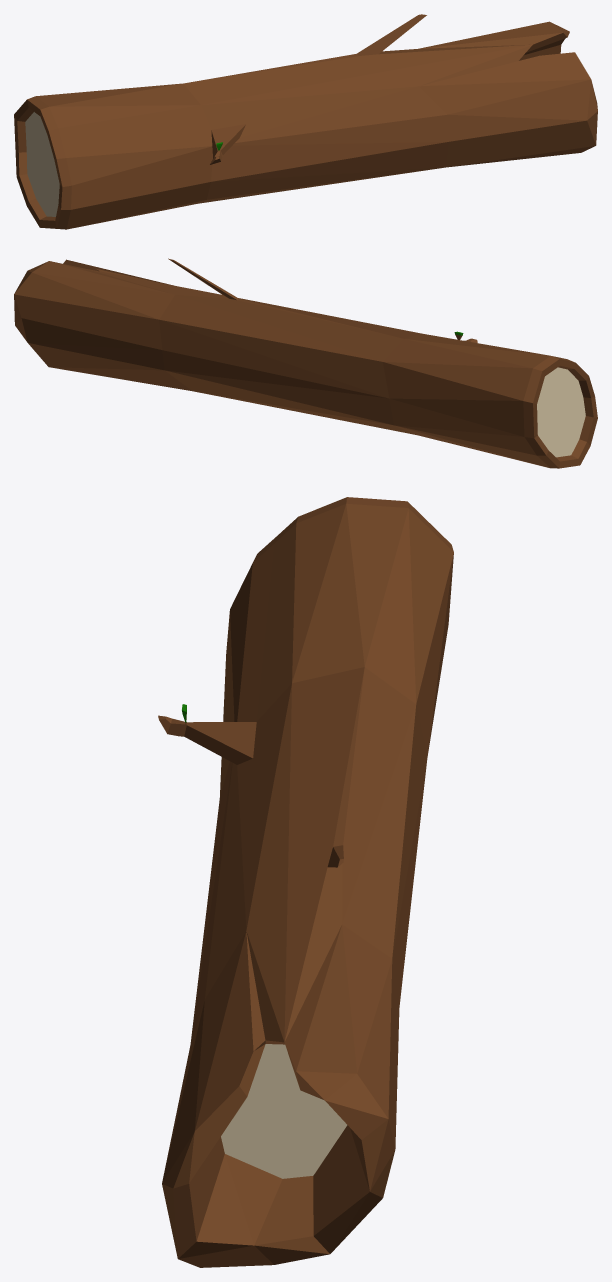
Rendered from christmas-wood.glb.
3 renders of one model, top to bottom at view 1: azimuth 30°, elevation 25°; view 2: azimuth 150°, elevation 25°; view 3: azimuth 270°, elevation 25°, orthographic. The views are drawn at different scales.
Visible parts, largest first — view 1: Cylinder.009; view 2: Cylinder.009; view 3: Cylinder.009.
Part boxes in pixels (x1,y1,x2,y2): Cylinder.009: (14, 14, 597, 229); Cylinder.009: (14, 258, 597, 468); Cylinder.009: (158, 497, 453, 1267).
Bounding box in the file's own units: 1.57 × 0.4076 × 0.3755.
